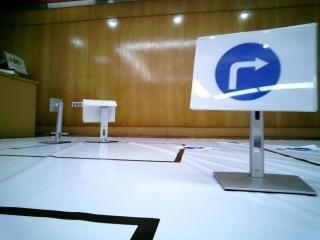right: (204, 40, 317, 109)
